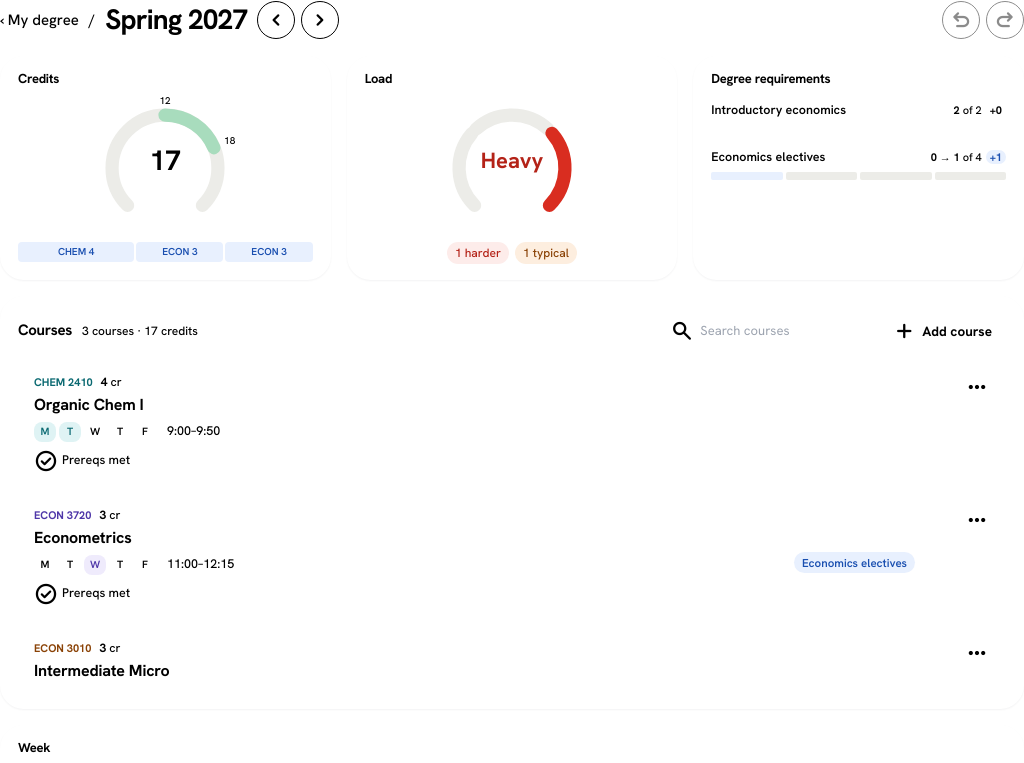
Test: drops › a week drop whose sections fail to load opens Swap section with Retry, never a silent pick
The image size is (1024, 763).
In the search field labelled "Search courses": [780, 331] box [700,322,860,339], type "labor"
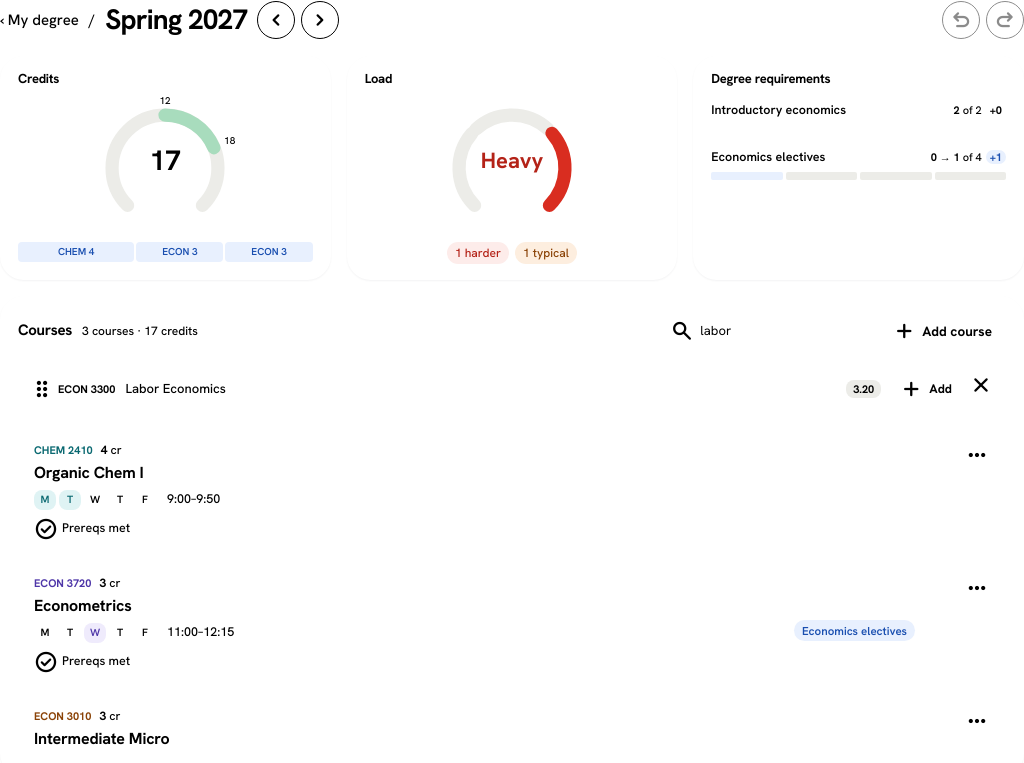
Press Space in the button named "Drag ECON 3300", box [30,377,48,401]
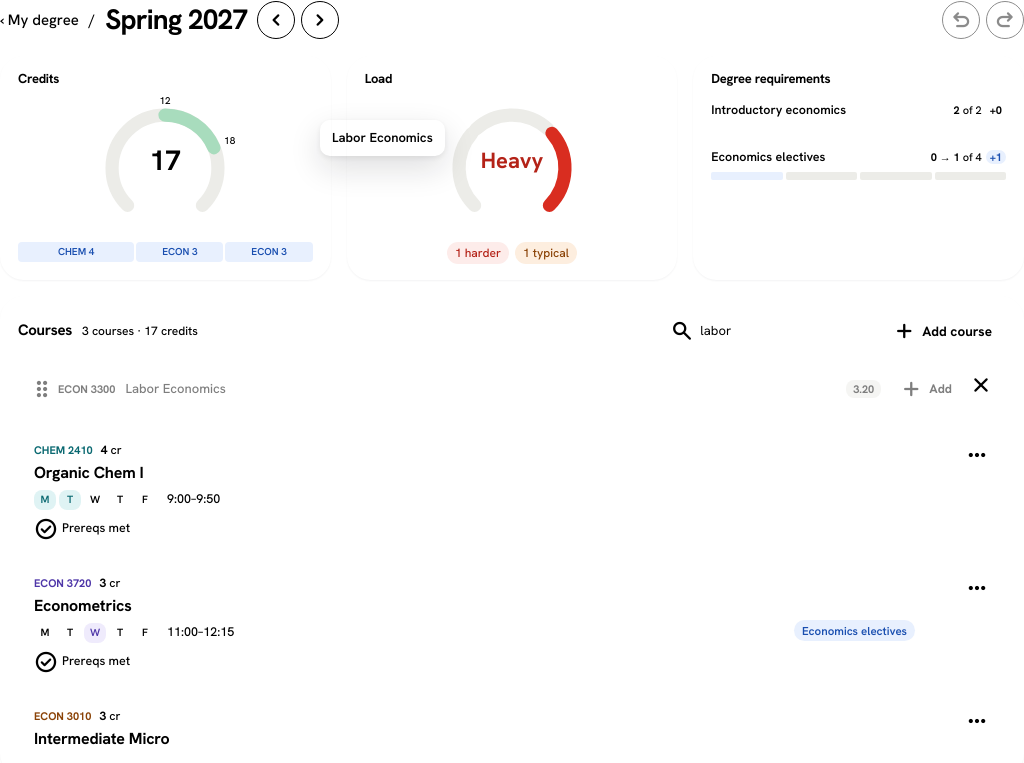
Press ArrowDown
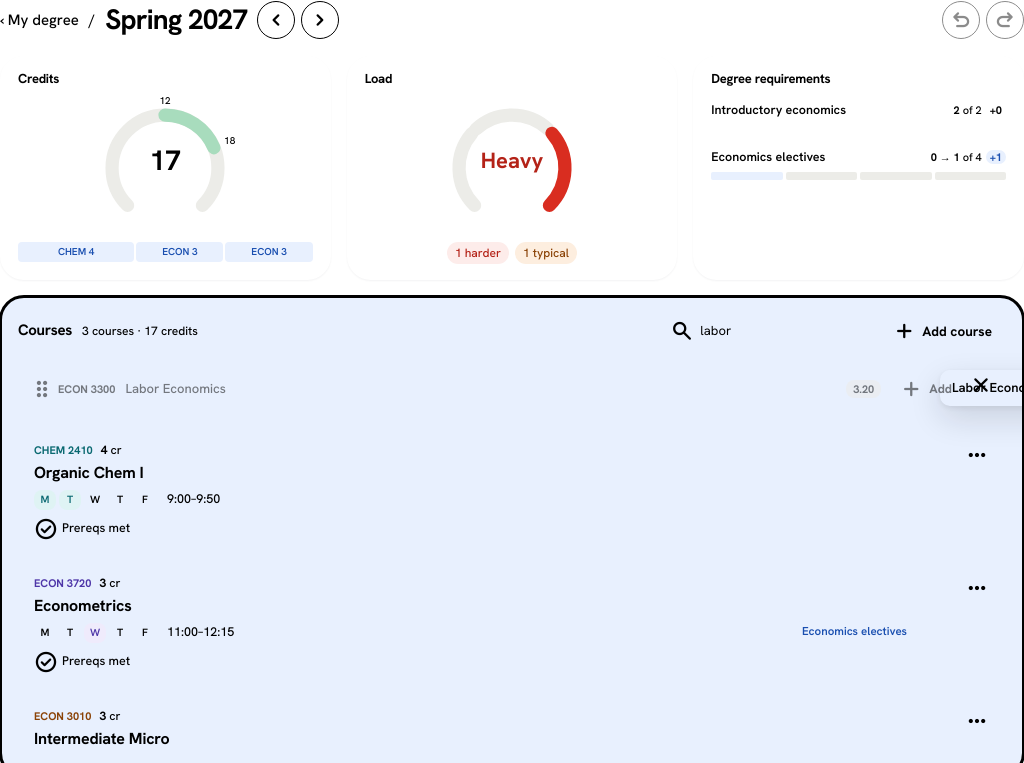
Press ArrowDown
(page scrolled)
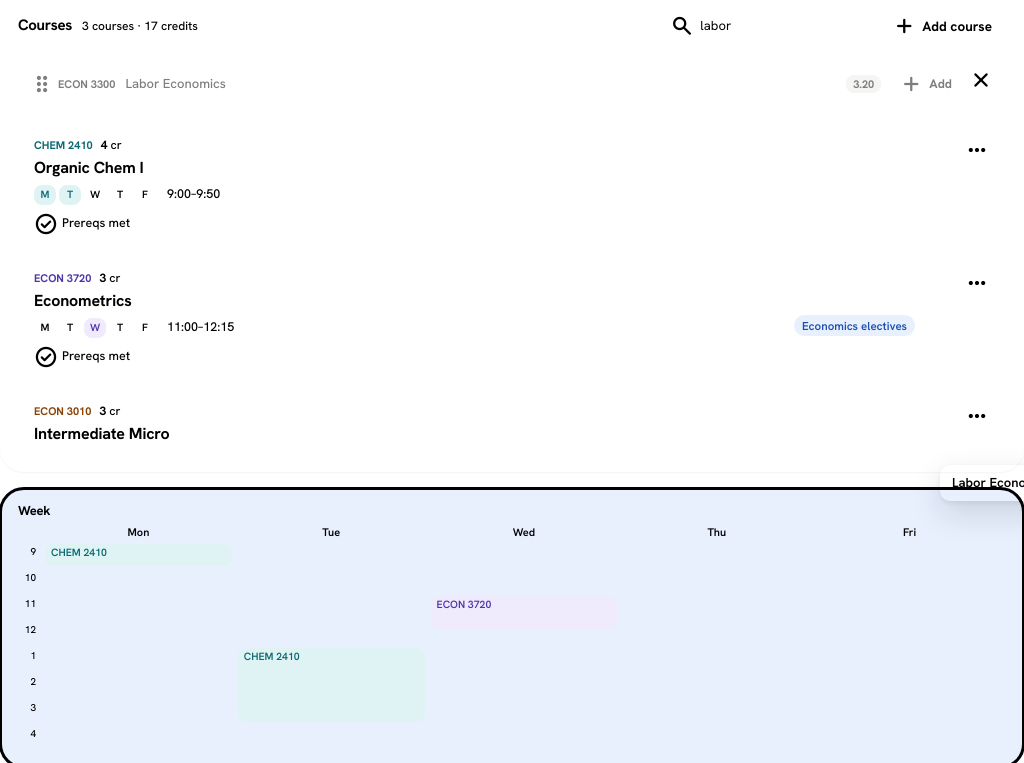
Press Space
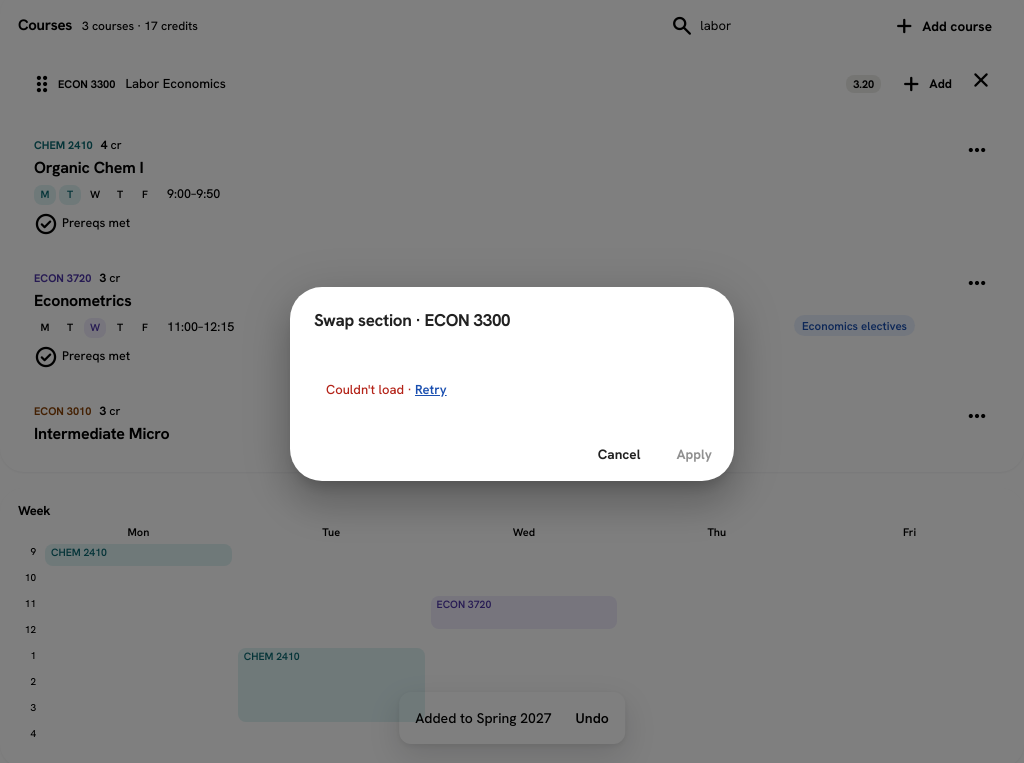
Expected: the text "Couldn't load · Retry" is shown, [326,380,447,399]
Click the button "Retry": [431, 390] box [415,380,447,399]
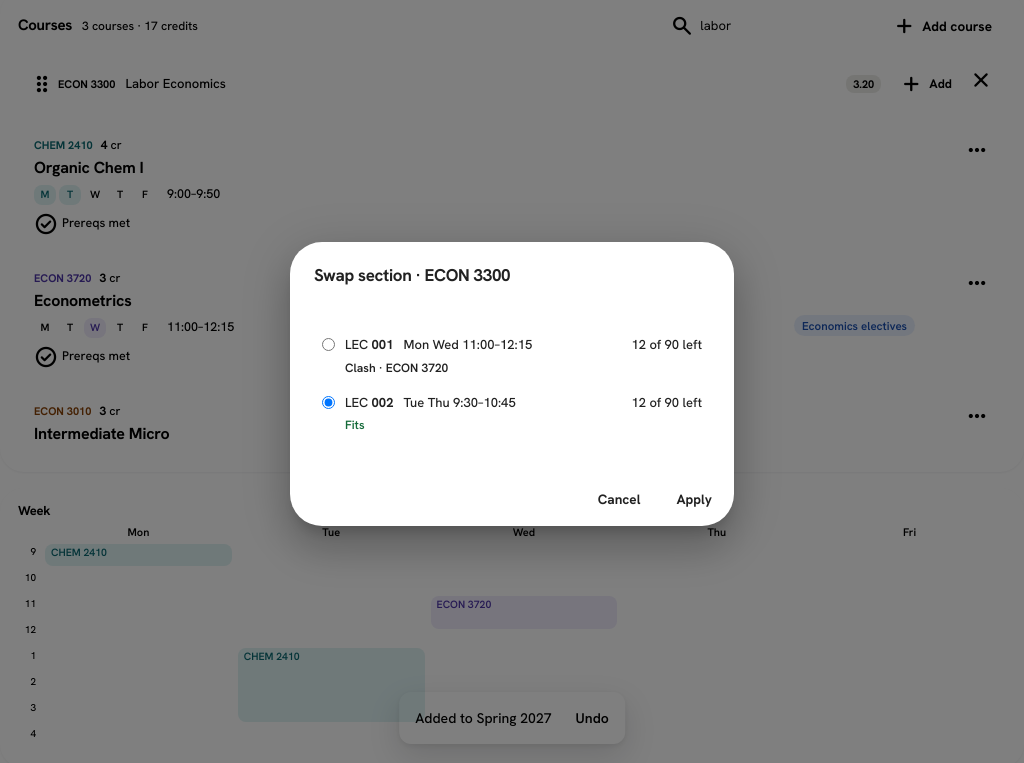
Expected: the text "Fits" is shown, [345,417,365,433]
